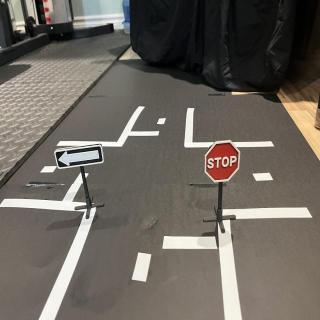sign_oneway_left: (56, 144, 106, 170)
sign_stop: (207, 142, 241, 182)
